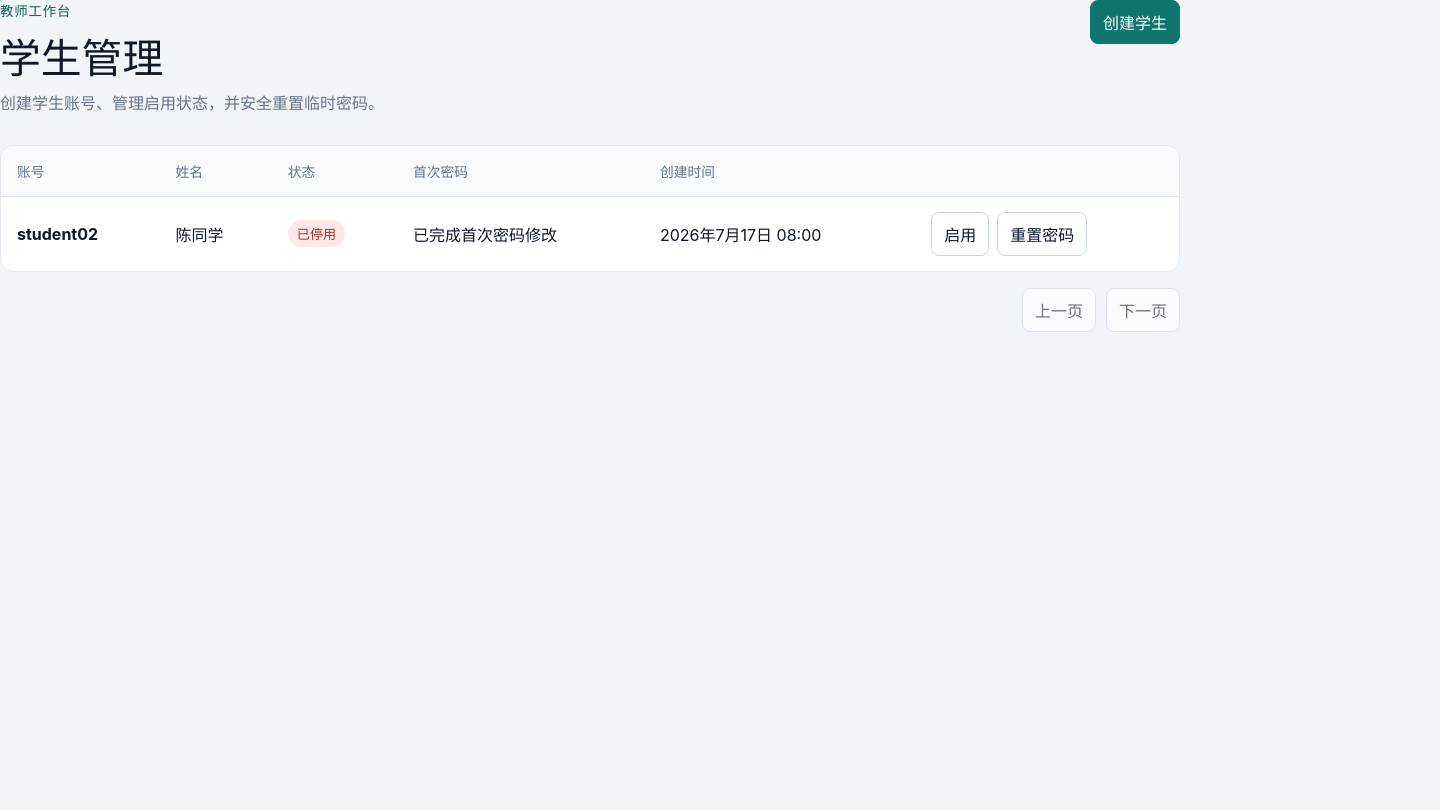
StudentListView › requires target-named confirmation before enabling a student and updates the row immediately
Click the button with aria-label "启用 student02". click: (960, 234)
box: [931,212,989,256]
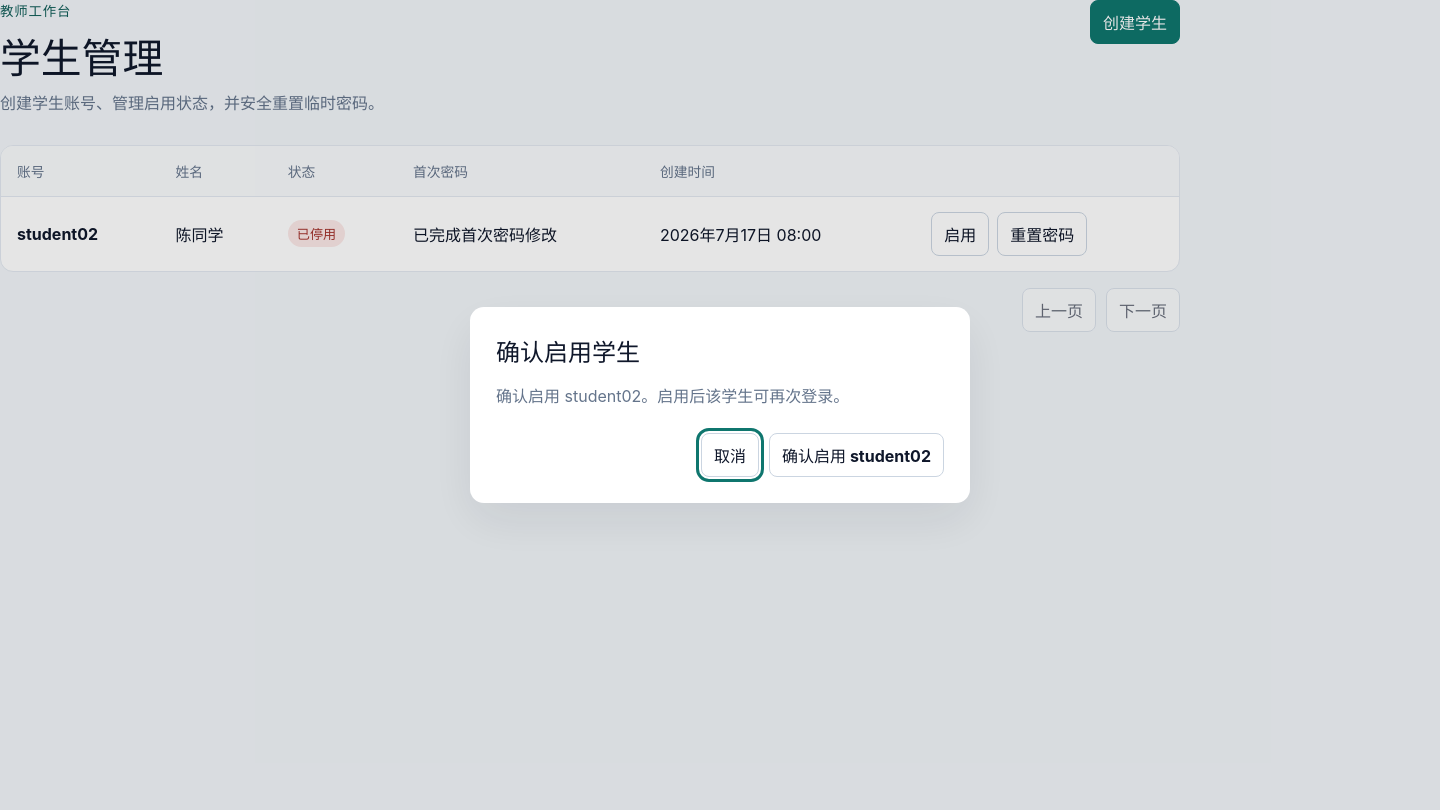
Expected: the dialog shows "确认启用 student02"
Click the button with aria-label "确认启用 student02". click: (857, 455)
box: [769,433,944,477]
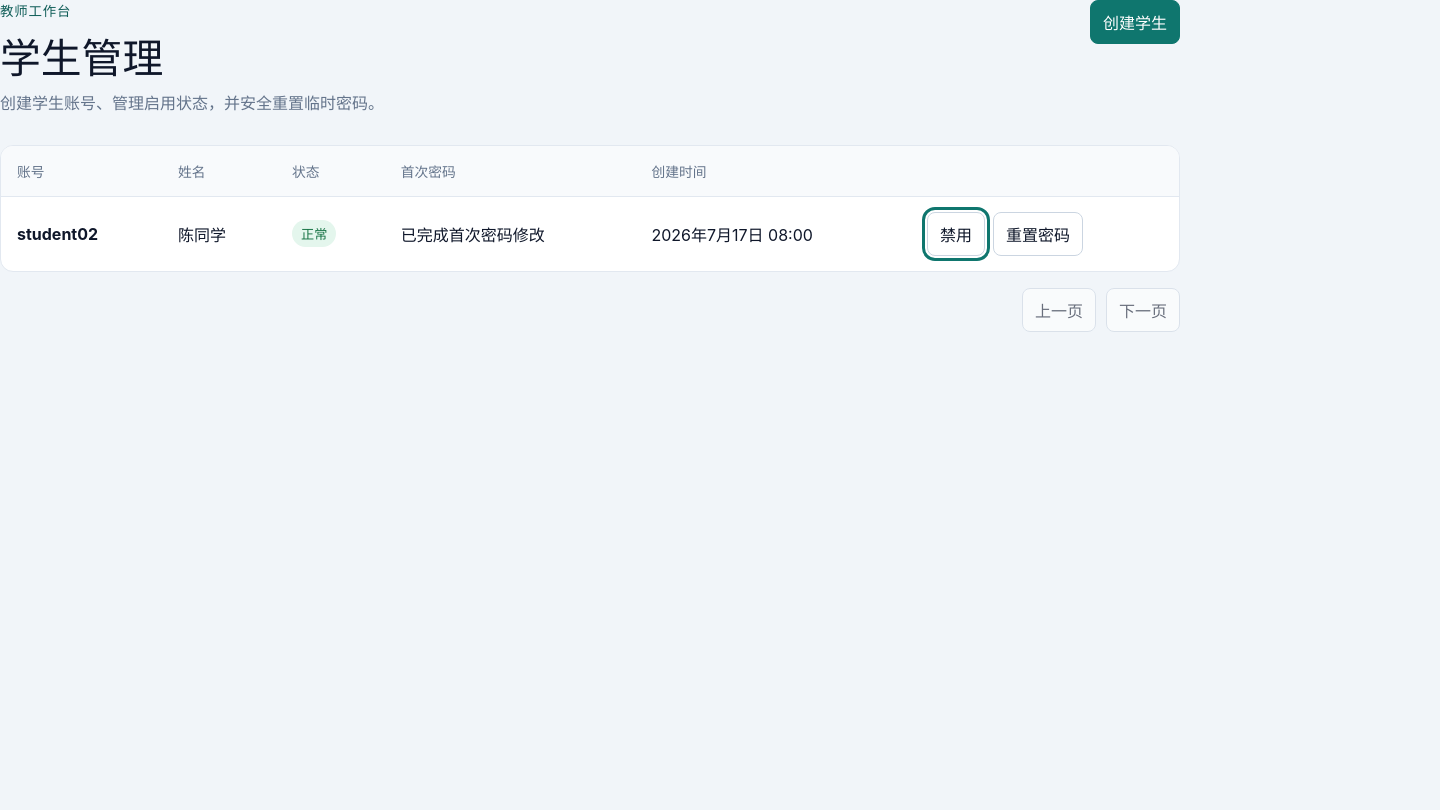
Expected: the text "正常" is shown, [292,220,336,247]
